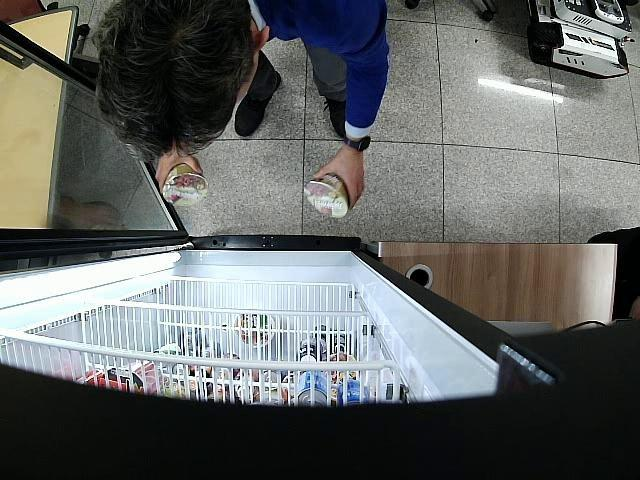03_chapagetti_L: (302, 173, 350, 218), (162, 162, 208, 206)
